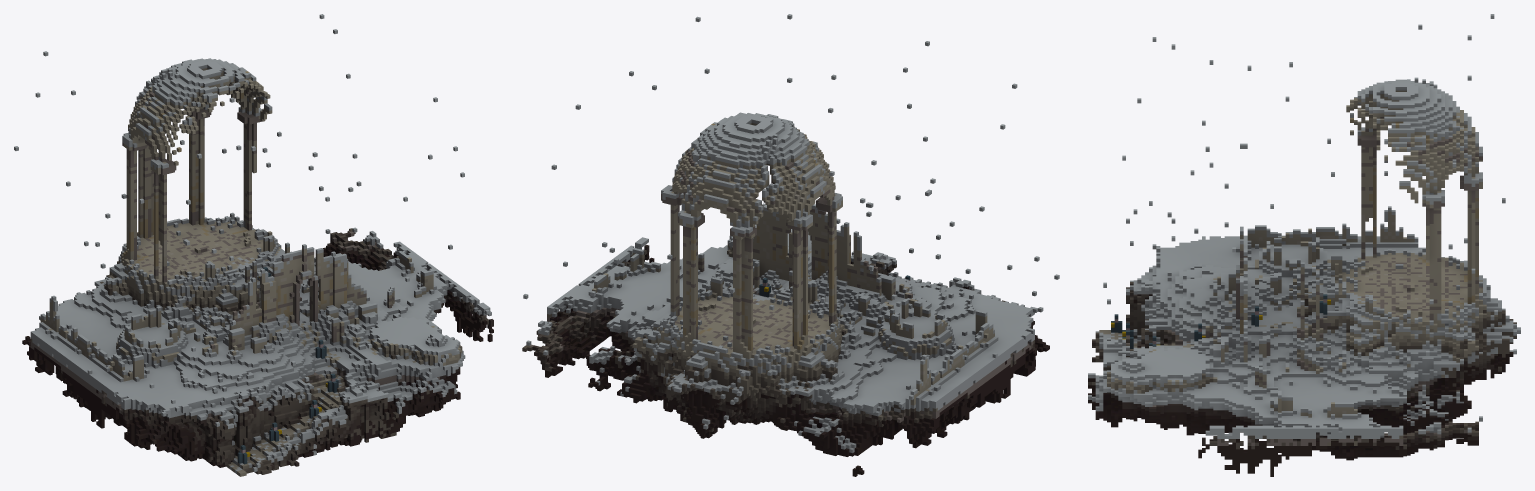
File: in_a_monastery_garden_-_voxel.glb
The picture shows the model from 3 angles, left to right: view 1: azimuth 30°, elevation 25°; view 2: azimuth 150°, elevation 25°; view 3: azimuth 270°, elevation 25°; orthographic projection. The views are drawn at different scales.
Parts seen in each view (by area): view 1: Object_5, Object_3, Object_4, Object_2; view 2: Object_2, Object_3, Object_4, Object_5; view 3: Object_3, Object_2.
Boxes of the visible parts, x1,y1,x2,y2 form: Object_5: (16,15,493,476); Object_3: (14,14,493,473); Object_4: (14,15,490,476); Object_2: (29,68,492,449); Object_2: (523,15,1057,476); Object_3: (522,14,1059,471); Object_4: (526,15,1059,474); Object_5: (525,116,1043,476); Object_3: (1088,14,1520,466); Object_2: (1088,81,1516,476).
Size of the model in its own units: 2.18 by 1.66 by 2.08.
